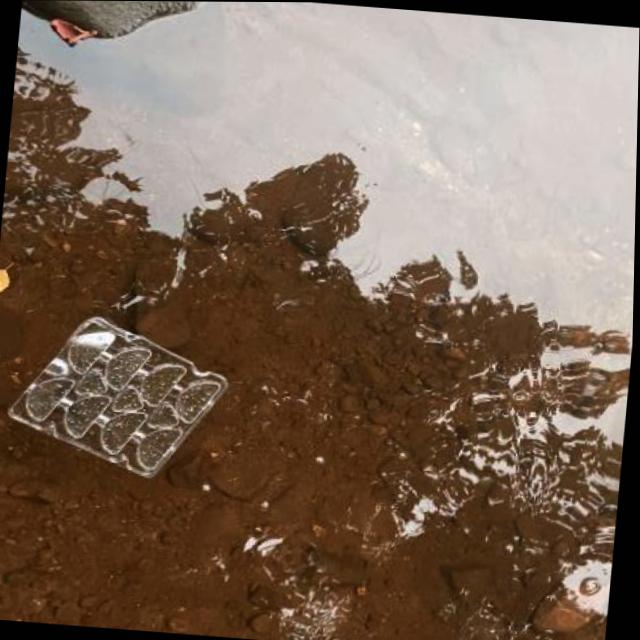Plastic: (0, 304, 242, 493)
